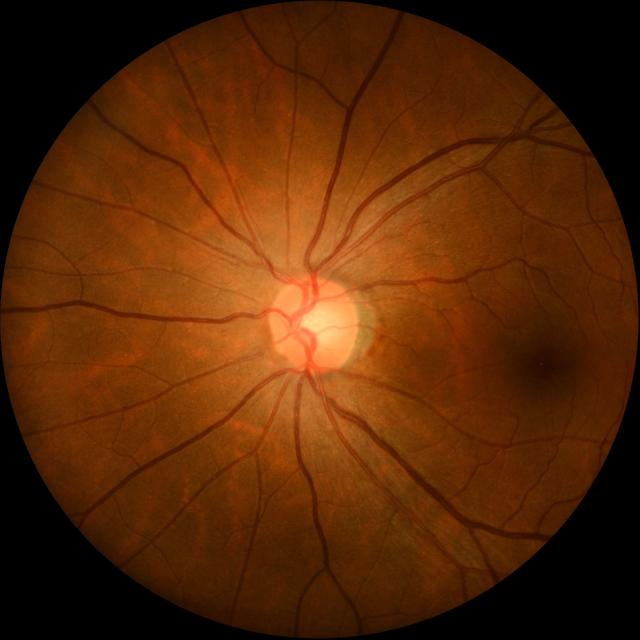OC: (296, 302, 339, 346)
OD: (270, 275, 358, 371)
